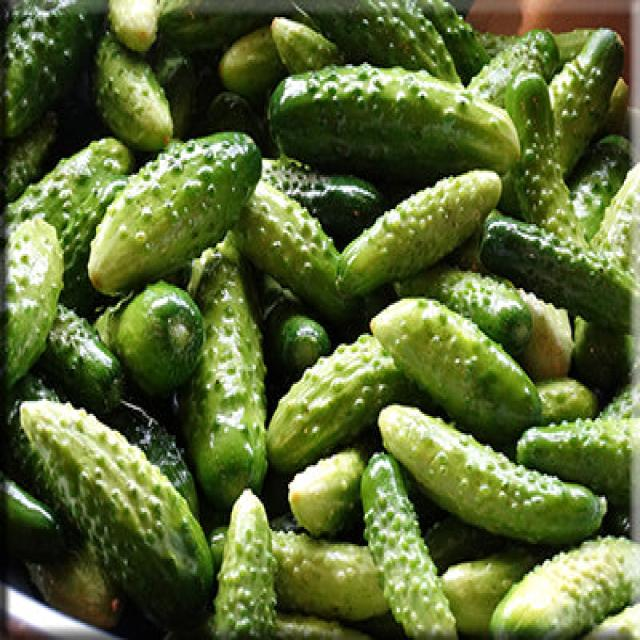Pickle: (21, 402, 214, 626), (379, 405, 605, 544), (270, 65, 519, 181), (91, 132, 261, 294), (371, 298, 541, 444), (180, 238, 268, 508), (268, 335, 415, 473), (339, 170, 500, 296), (480, 213, 634, 332), (361, 455, 456, 638), (238, 180, 356, 322), (490, 537, 640, 638), (506, 73, 585, 244), (299, 1, 459, 82), (394, 263, 532, 354), (5, 138, 130, 238), (95, 282, 204, 395), (271, 532, 389, 621), (5, 218, 62, 388), (516, 420, 628, 505), (214, 490, 276, 638), (96, 33, 172, 151)
